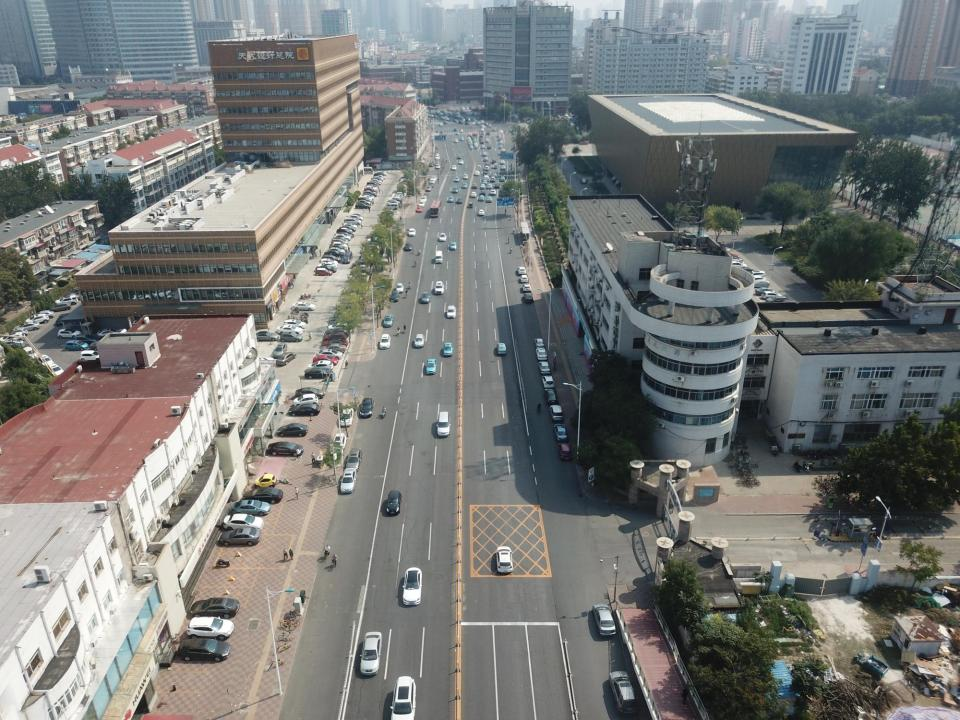bus: (430, 198, 442, 218)
car: (608, 670, 641, 715), (177, 637, 232, 661), (186, 615, 234, 641), (390, 675, 416, 720), (190, 597, 241, 618), (360, 631, 383, 676), (592, 603, 616, 636), (402, 567, 422, 606), (223, 513, 264, 532), (219, 528, 261, 546), (230, 499, 272, 517), (242, 487, 284, 504), (268, 441, 304, 457), (276, 422, 308, 437), (495, 546, 513, 572), (329, 432, 347, 457), (340, 467, 356, 494), (345, 447, 363, 471), (385, 490, 402, 515), (289, 403, 321, 416), (295, 387, 325, 400), (436, 411, 451, 437), (292, 393, 319, 407), (23, 312, 50, 326), (304, 367, 334, 379), (253, 474, 277, 488), (73, 334, 100, 346), (557, 442, 574, 461), (46, 363, 66, 379), (359, 397, 374, 418), (276, 351, 297, 366), (320, 342, 346, 354), (96, 327, 122, 339), (54, 294, 78, 307), (306, 360, 334, 371), (90, 339, 112, 353), (543, 387, 560, 405), (282, 318, 307, 330), (79, 350, 104, 362), (312, 355, 339, 366), (548, 404, 564, 422), (30, 310, 54, 322), (322, 331, 348, 342), (3, 327, 29, 338), (340, 407, 354, 427), (316, 349, 344, 359), (57, 328, 82, 339), (50, 301, 71, 314), (323, 327, 350, 337), (252, 331, 279, 341), (276, 324, 303, 334), (553, 423, 568, 441), (1, 339, 25, 350), (16, 322, 40, 333), (272, 342, 288, 358), (280, 331, 303, 342), (37, 354, 55, 368), (21, 346, 39, 360), (291, 301, 316, 311), (64, 340, 89, 350), (321, 338, 348, 347), (327, 322, 350, 332), (328, 318, 348, 328), (425, 358, 437, 374), (541, 375, 555, 388), (442, 342, 454, 357), (379, 334, 391, 349), (382, 313, 394, 328), (314, 265, 336, 273), (324, 251, 343, 260), (538, 361, 551, 374), (328, 314, 349, 322), (414, 334, 426, 348), (315, 267, 333, 276), (320, 258, 340, 266), (341, 251, 353, 264), (446, 305, 457, 319), (316, 262, 338, 269), (434, 280, 444, 295), (536, 348, 548, 360), (389, 289, 400, 302), (420, 291, 431, 304), (496, 342, 507, 354), (321, 255, 341, 261), (534, 338, 545, 348), (523, 292, 533, 303), (403, 242, 413, 252), (522, 283, 532, 292), (438, 232, 447, 242), (396, 283, 404, 294), (449, 241, 457, 251), (520, 274, 528, 283), (518, 266, 526, 275), (408, 228, 416, 236), (417, 200, 426, 207), (447, 195, 454, 203), (416, 206, 423, 214), (420, 195, 428, 202), (452, 186, 459, 194), (478, 209, 485, 216), (456, 197, 463, 204), (425, 185, 432, 192), (470, 191, 477, 198), (479, 194, 485, 202), (427, 182, 434, 188), (486, 196, 493, 202), (490, 188, 496, 195), (486, 184, 493, 190), (479, 184, 486, 190), (461, 183, 468, 189), (463, 173, 469, 180), (468, 202, 474, 208), (429, 178, 435, 184), (431, 176, 437, 182), (494, 183, 500, 189), (480, 189, 486, 195), (472, 183, 478, 189), (454, 176, 460, 182), (451, 164, 457, 170), (474, 170, 480, 176)
van: (434, 250, 443, 264)
